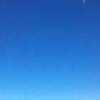sky: (1, 1, 100, 96)
